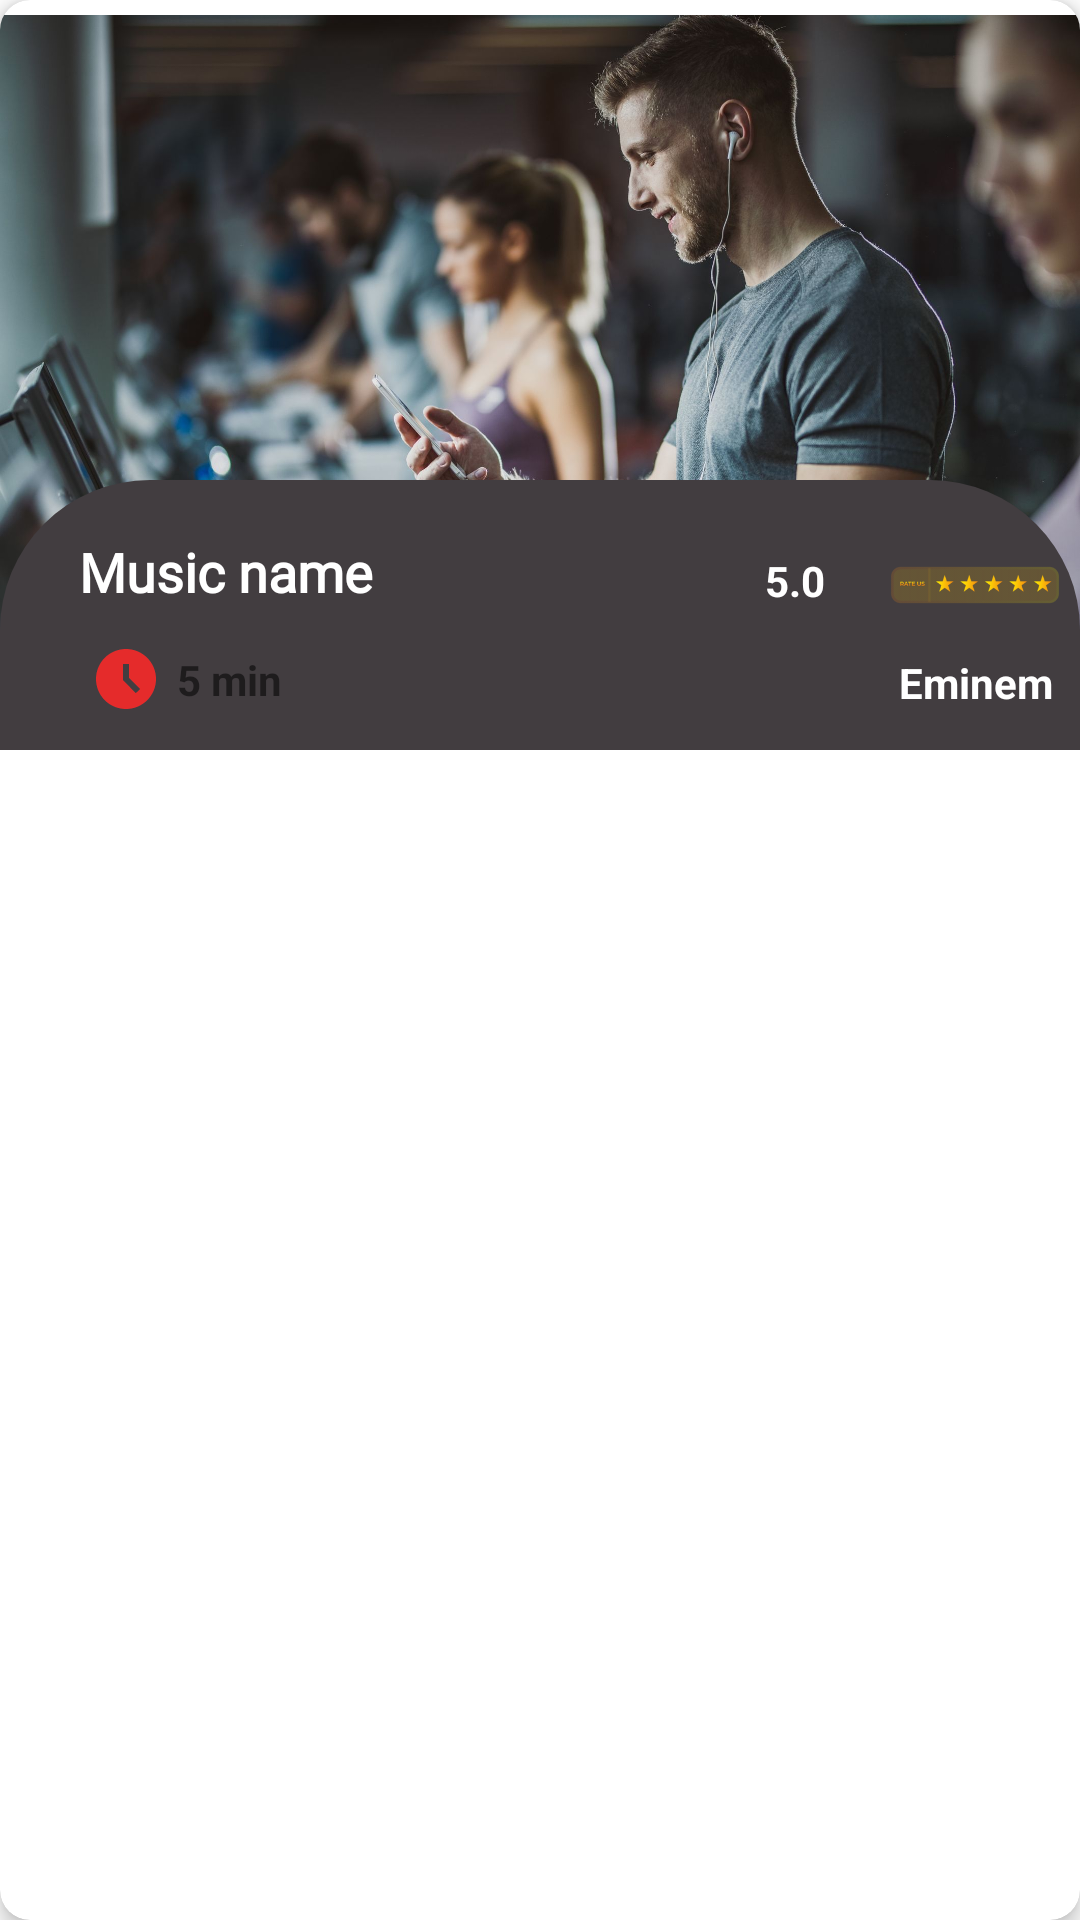

Screen size 1080 × 1920. Icon name, then its center in pixels as (x=x, y=y):
access time: (x=126, y=679)
